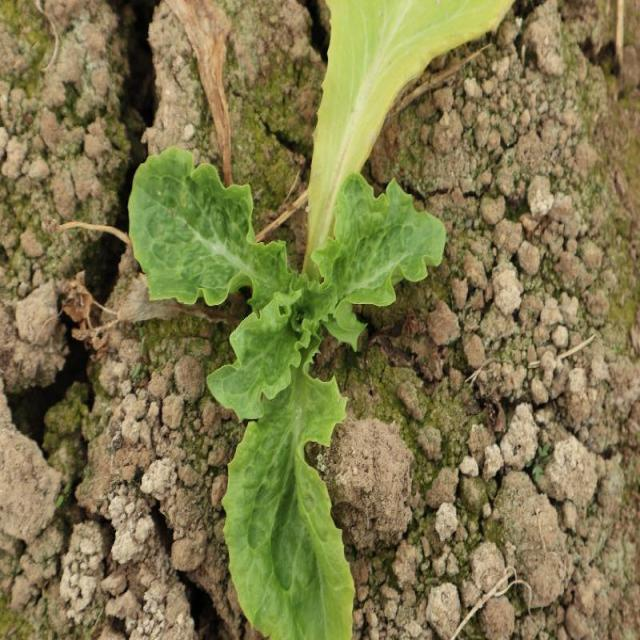crop: (126, 145, 449, 640)
